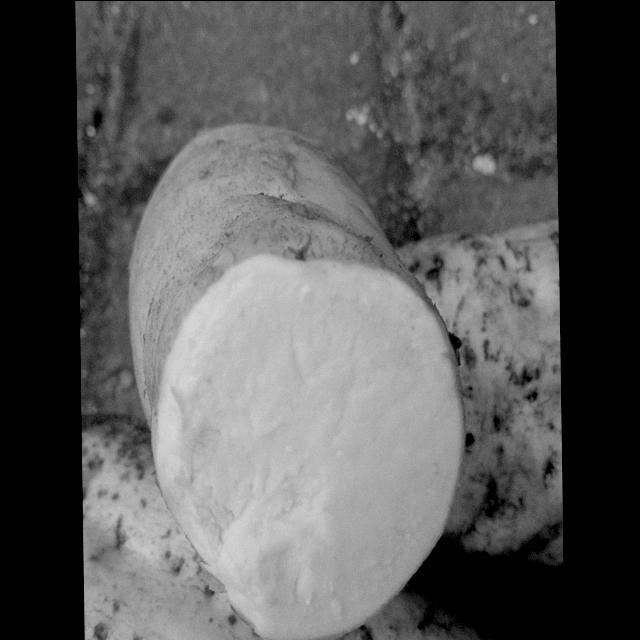Healthy Sweet Potato: (156, 253, 464, 638)
